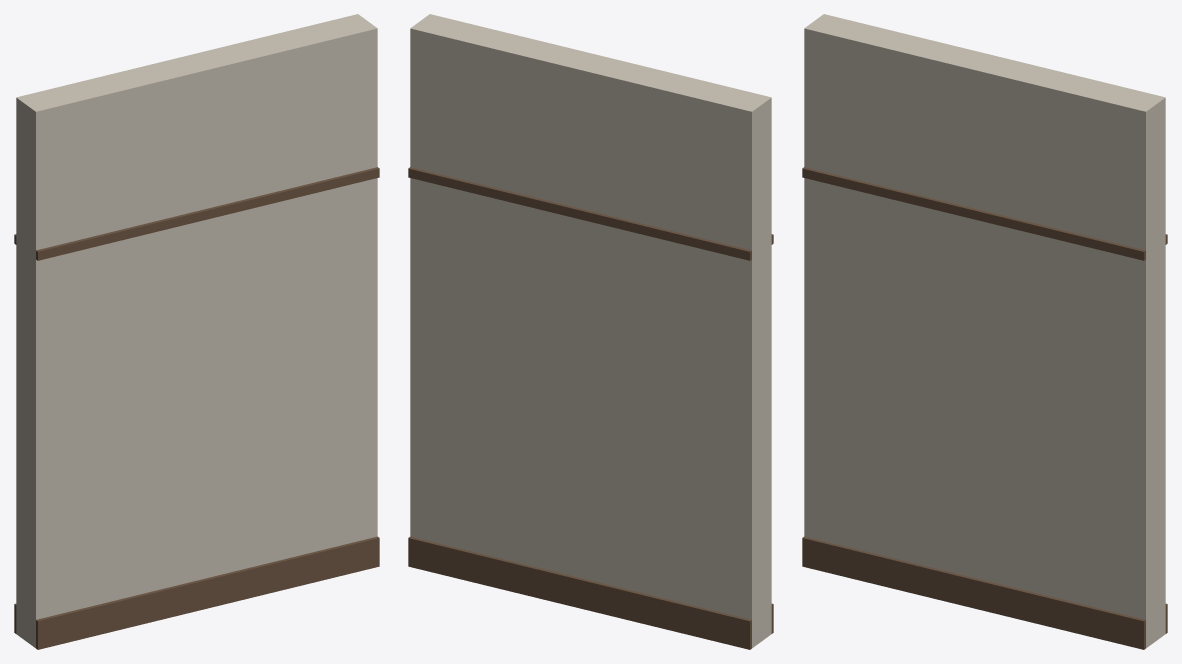
Rendered from Wall.glb.
3 views of the same model, side by side, from view 1: azimuth 30°, elevation 25°; view 2: azimuth 150°, elevation 25°; view 3: azimuth 330°, elevation 25° (orthographic).
Parts seen in each view (by area): view 1: Wall; view 2: Wall; view 3: Wall.
Boxes of the visible parts, box(x1,y1,x2,y2) form: Wall: box(14, 14, 379, 649); Wall: box(408, 14, 773, 649); Wall: box(802, 14, 1167, 649).
Bounding box in the file's own units: 2 × 3 × 0.24.
